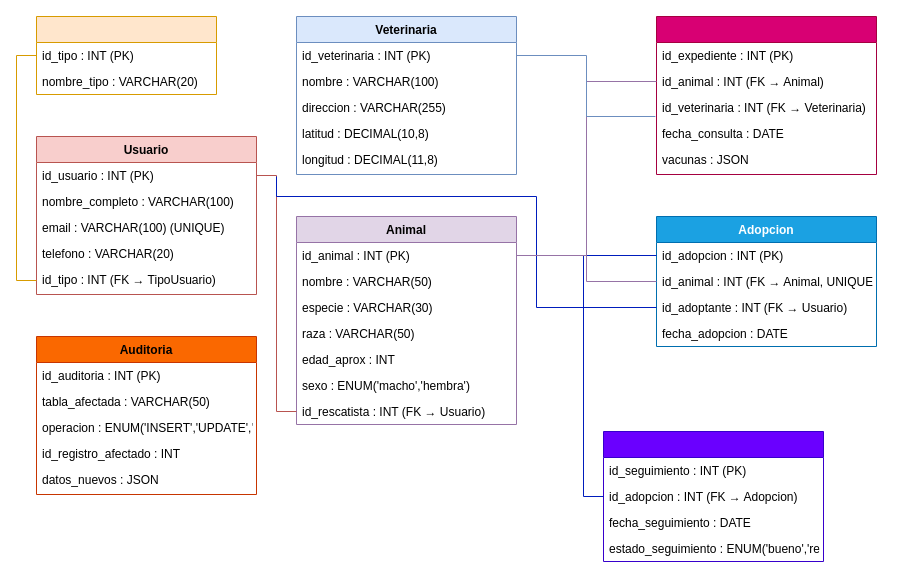
Image size: 903x578. Some labels were removed from this diagram. Here are the shapes that lost their labels. From the top down, the box of each, then its label:
(36, 16, 216, 94): TipoUsuario
(656, 16, 876, 174): ExpedienteMedico
(602, 430, 824, 562): SeguimientoAdopcion
